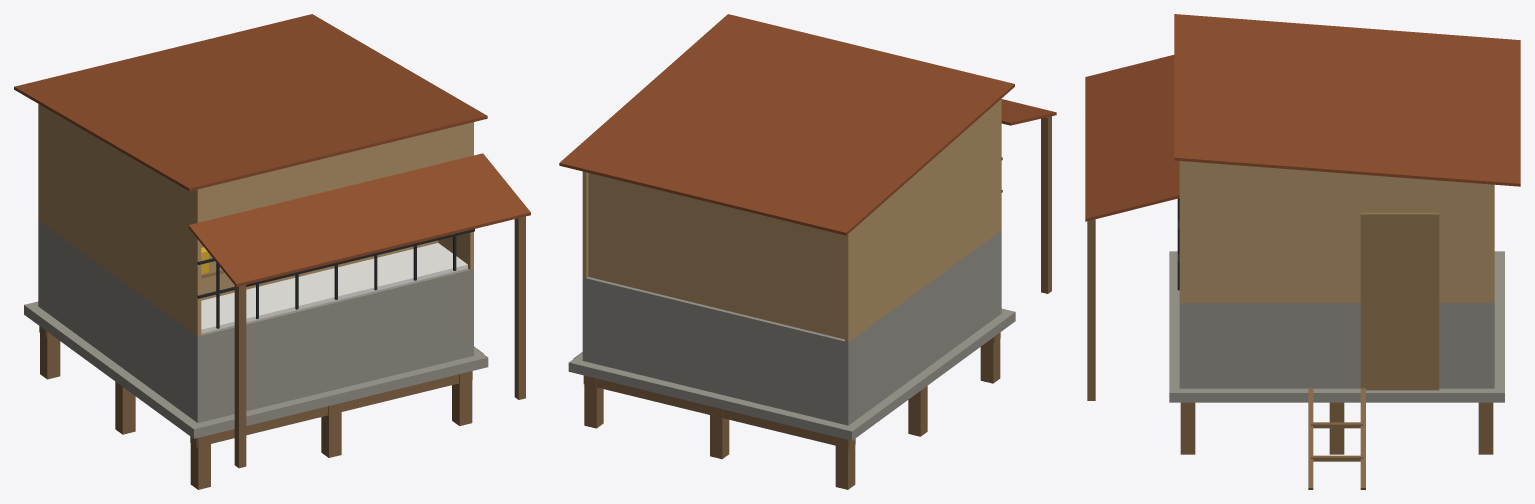
The model's file is BAY_I_SariSari_I.glb.
3 renders of one model, left to right at view 1: azimuth 30°, elevation 25°; view 2: azimuth 150°, elevation 25°; view 3: azimuth 270°, elevation 25°, orthographic. The views are drawn at different scales.
Visible parts, largest first — view 1: BAY_I_SariSari_I; view 2: BAY_I_SariSari_I; view 3: BAY_I_SariSari_I.
Boxes of the visible parts, x1,y1,x2,y2 form: BAY_I_SariSari_I: [14, 14, 530, 489]; BAY_I_SariSari_I: [559, 14, 1056, 489]; BAY_I_SariSari_I: [1085, 14, 1520, 489].
Bounding box in the file's own units: 3.94 × 3.18 × 4.15.
1 material, 1 textured.
